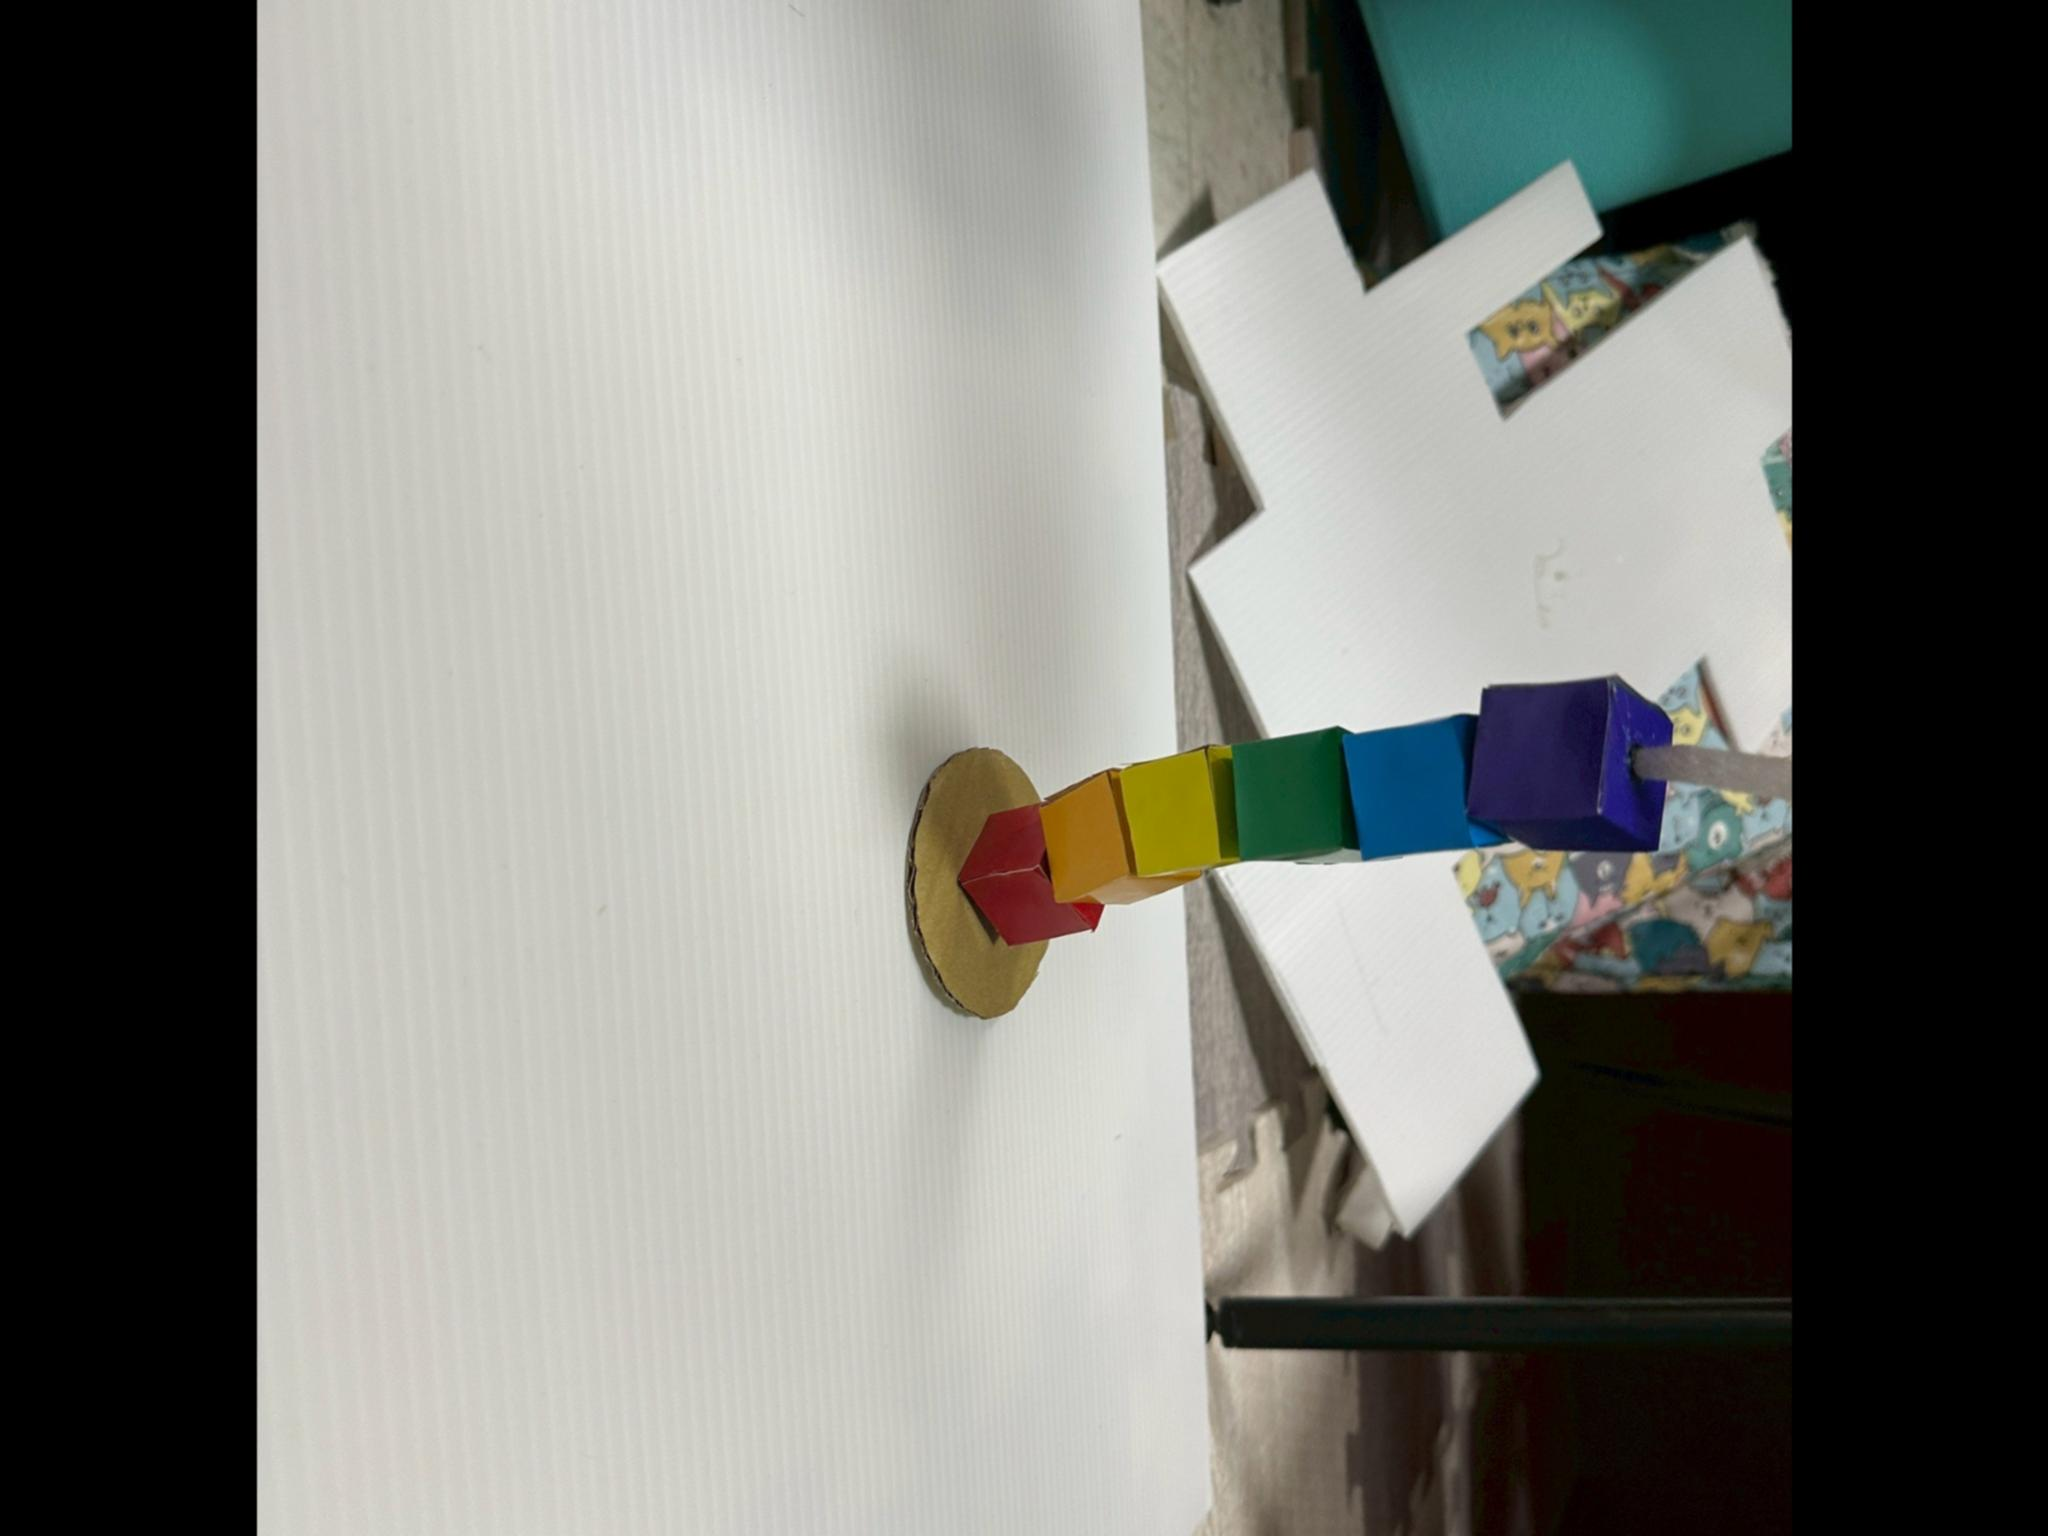base: (910, 749, 1045, 1020)
cube: (1466, 676, 1672, 852), (1342, 715, 1508, 860), (1039, 771, 1200, 904), (958, 802, 1101, 947), (1230, 728, 1358, 860), (1109, 747, 1238, 876)
